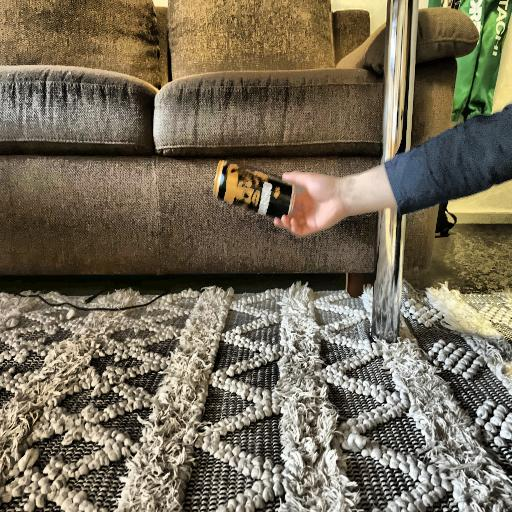karhu: (210, 153, 303, 235)
